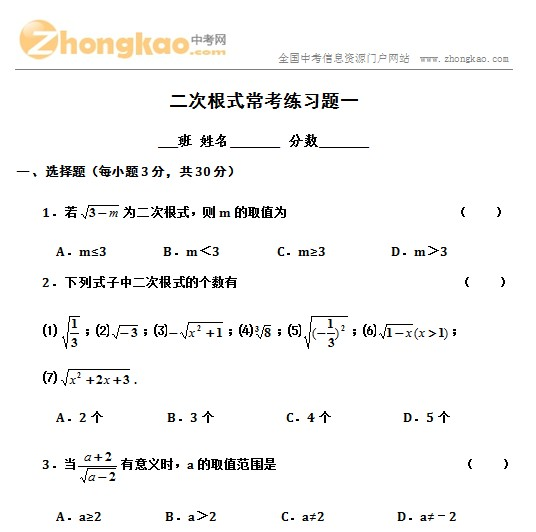division: (79, 464, 117, 472), (327, 330, 335, 336)
sqrt: (305, 311, 349, 349), (61, 367, 131, 386), (179, 319, 223, 341), (80, 464, 116, 485), (378, 322, 417, 339), (64, 315, 83, 349), (81, 202, 121, 218), (113, 319, 139, 342)
square: (75, 369, 81, 381), (196, 322, 202, 333), (341, 324, 347, 331)
